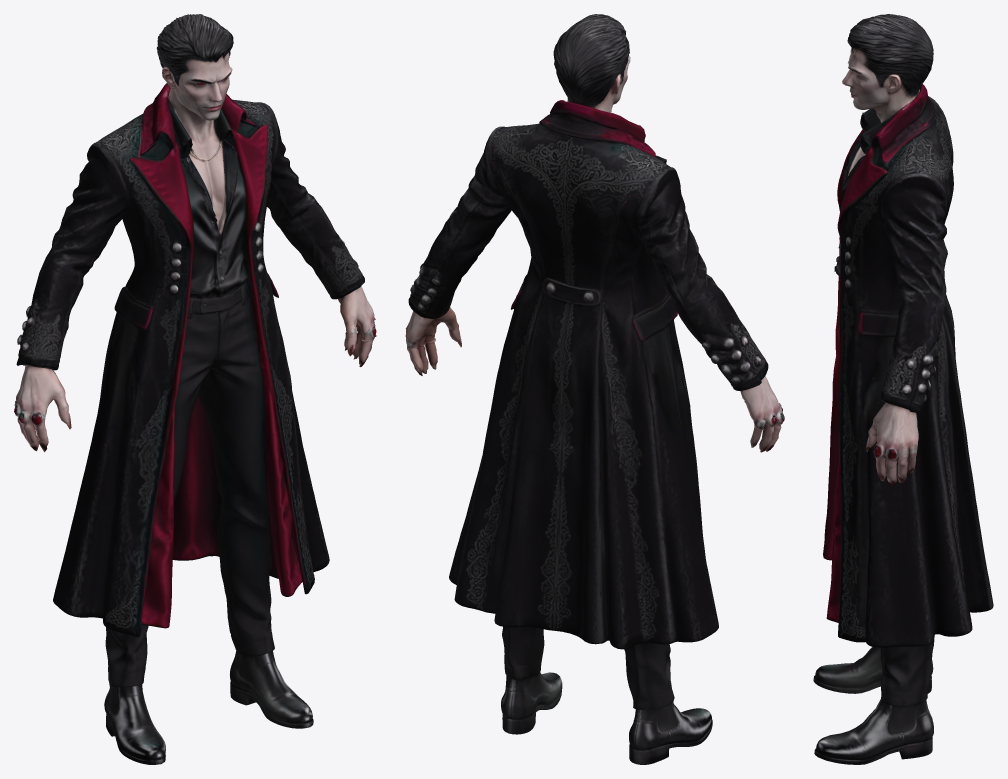
Rendered from marcus_crane.glb.
3 renders of one model, left to right at view 1: azimuth 30°, elevation 25°; view 2: azimuth 150°, elevation 25°; view 3: azimuth 270°, elevation 25°, orthographic.
Parts seen in each view (by area): view 1: Part; view 2: Part; view 3: Part.
Boxes of the visible parts, x1,y1,x2,y2 form: Part: [14, 14, 376, 764]; Part: [405, 14, 784, 764]; Part: [813, 14, 993, 764].
Size of the model in its own units: 1.01 by 1.88 by 0.4359.
Materials: 1 (1 with a texture image).
